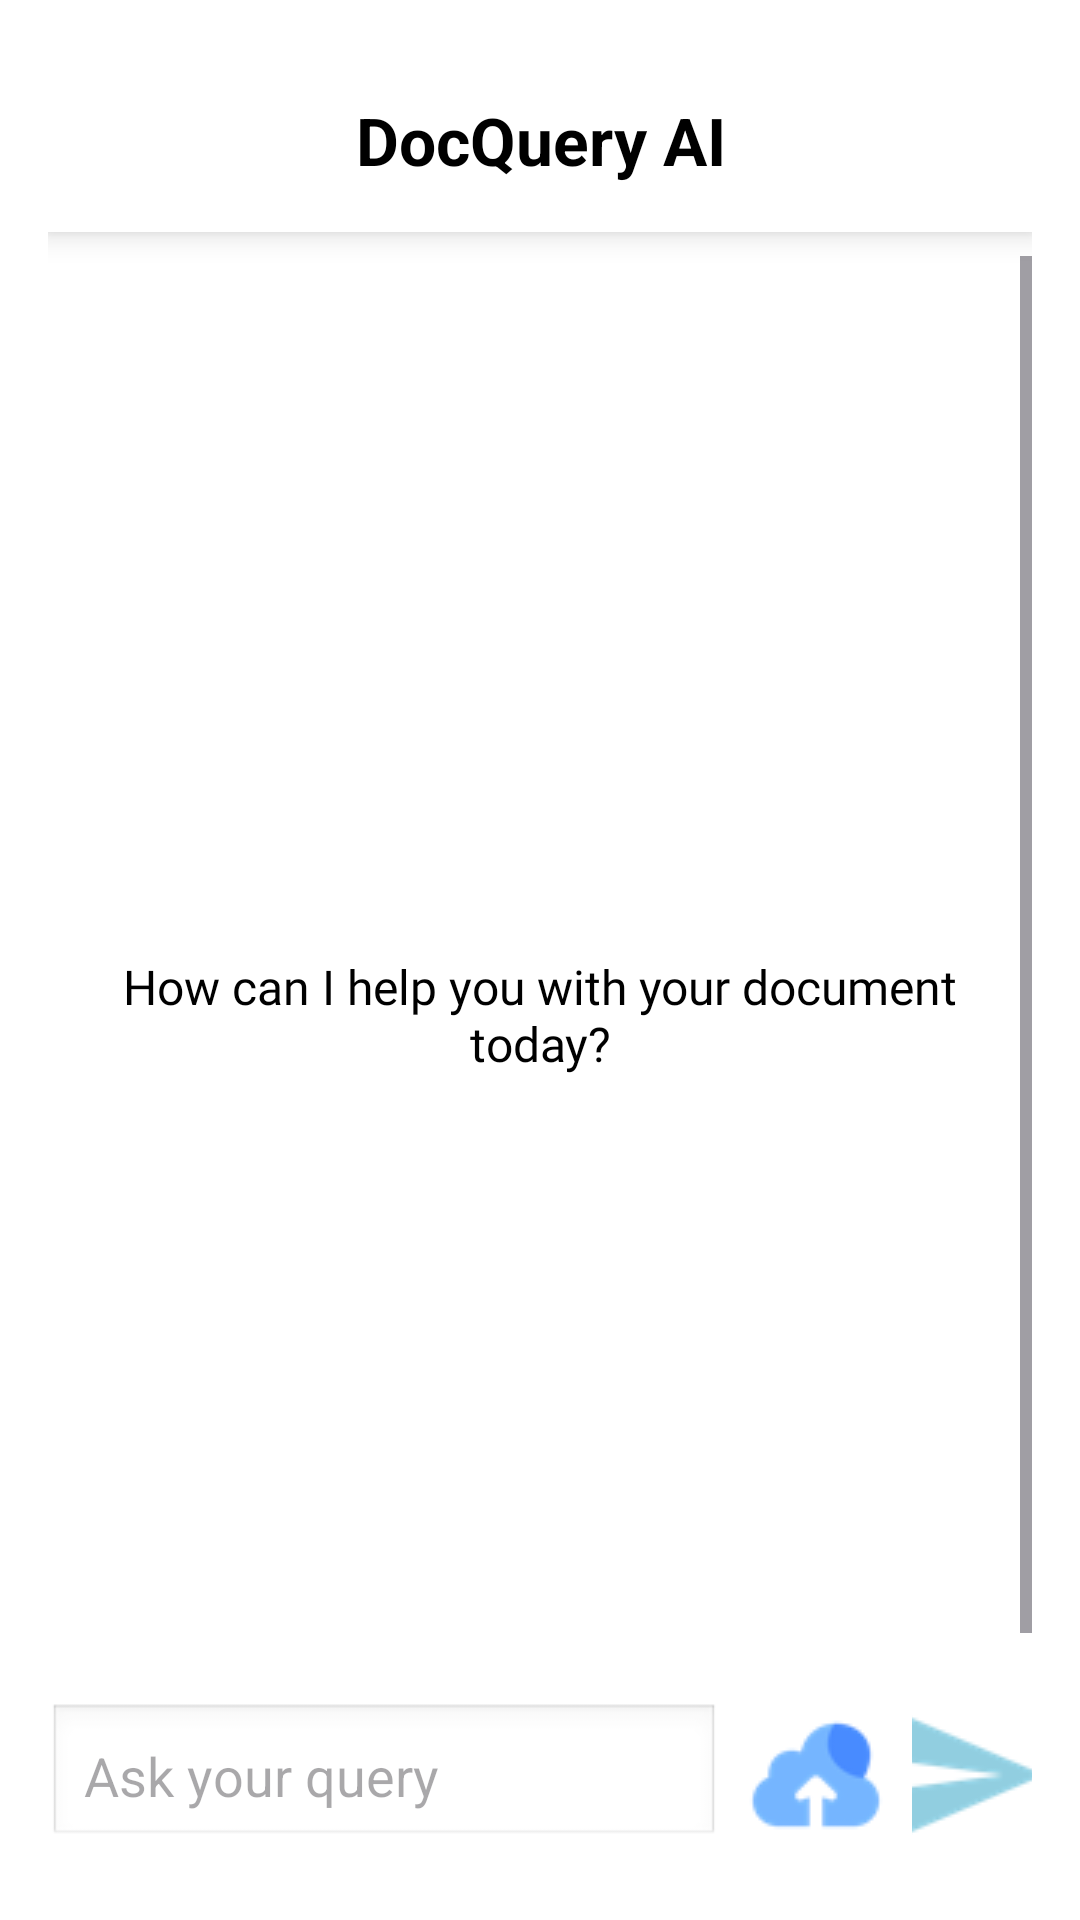

Icon bounding boxes for this 1080x1920 phone screenshot, format (x1,y1,x2,y2):
upload: (752,1722,880,1827)
